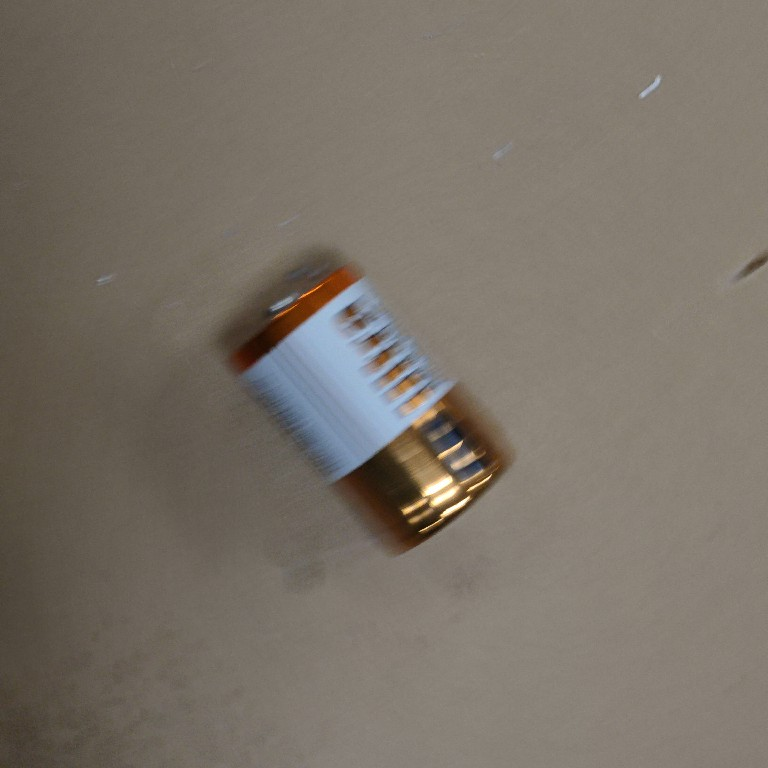charge: (230, 260, 520, 558)
